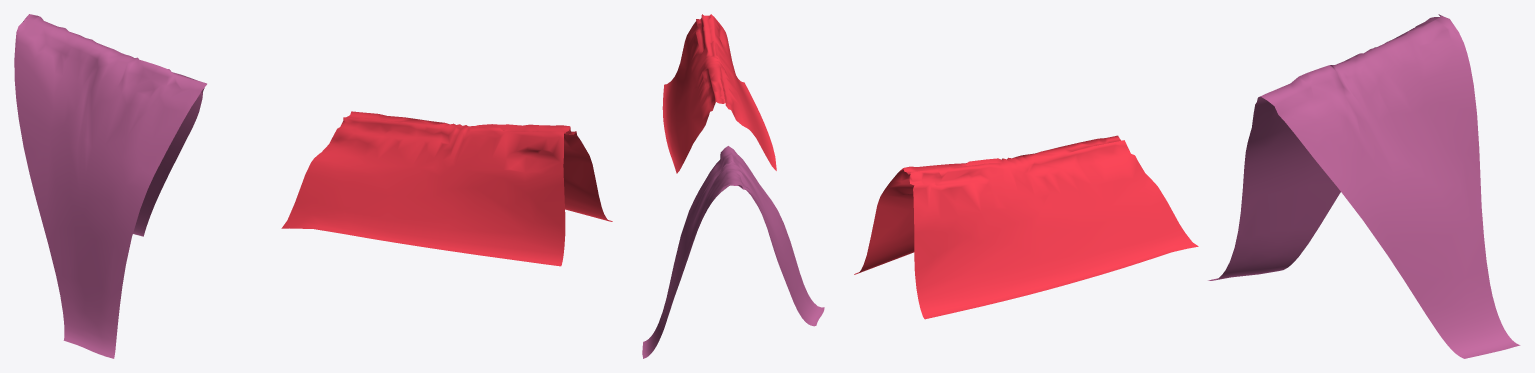
File: Dress_3.fbx
3 views of the same model, side by side, from view 1: azimuth 30°, elevation 25°; view 2: azimuth 150°, elevation 25°; view 3: azimuth 270°, elevation 25° (orthographic). The views are drawn at different scales.
Parts seen in each view (by area): view 1: Dress_3; view 2: Dress_3; view 3: Dress_3.
Part boxes in pixels (x1=…): Dress_3: x1=14, y1=14, x2=612, y2=358; Dress_3: x1=642, y1=14, x2=824, y2=358; Dress_3: x1=854, y1=14, x2=1520, y2=358.
Size of the model in its own units: 90.62 by 57.23 by 125.
